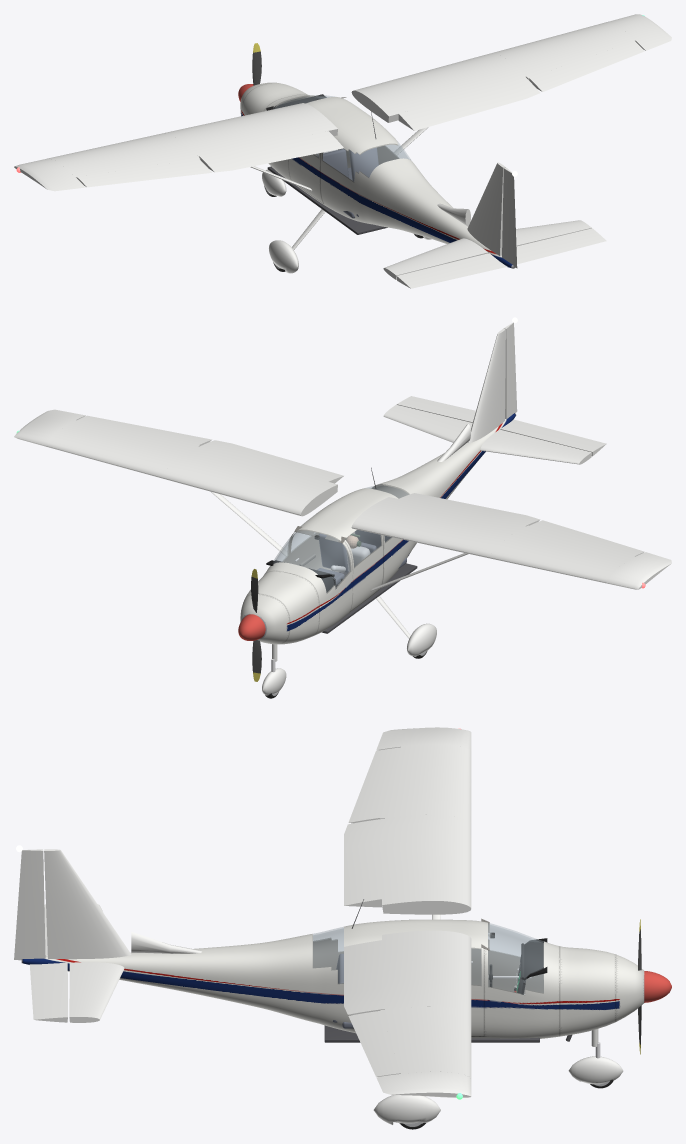
Rendered from aircraft.glb.
The picture shows the model from 3 angles, top to bottom: view 1: azimuth 30°, elevation 25°; view 2: azimuth 150°, elevation 25°; view 3: azimuth 270°, elevation 25°; orthographic projection. The views are drawn at different scales.
Visible parts, largest first — view 1: fuselage, wing_R, wing_L, elevator, flap_R, flap_L, stab, fin, aileron_R, aileron_L, rudder, int_floor (+5 smaller); view 2: fuselage, wing_R, wing_L, stab, fin, elevator, flap_R, flap_L, propeller, aileron_R, rudder, aileron_L (+3 smaller); view 3: fuselage, wing_L, wing_R, fin, flap_L, rudder, flap_R, stab, elevator, aileron_L, aileron_R, pant_R (+5 smaller).
Boxes of the visible parts, x1,y1,x2,y2 form: fuselage: [240, 82, 515, 268]; wing_R: [351, 14, 671, 122]; wing_L: [14, 103, 337, 191]; elevator: [397, 228, 606, 288]; flap_R: [398, 77, 540, 130]; flap_L: [199, 131, 343, 172]; stab: [383, 220, 591, 279]; fin: [467, 162, 505, 255]; aileron_R: [529, 41, 644, 91]; aileron_L: [77, 159, 211, 187]; rudder: [502, 167, 517, 268]; int_floor: [267, 166, 387, 234]; fuselage: [240, 413, 516, 644]; wing_R: [14, 409, 337, 516]; wing_L: [351, 497, 671, 589]; stab: [383, 404, 591, 464]; fin: [467, 328, 505, 442]; elevator: [397, 396, 606, 456]; flap_R: [200, 440, 343, 483]; flap_L: [399, 493, 540, 526]; propeller: [238, 569, 265, 681]; aileron_R: [77, 415, 211, 445]; rudder: [504, 322, 517, 419]; aileron_L: [530, 520, 644, 556]; fuselage: [21, 919, 644, 1038]; wing_L: [376, 727, 471, 914]; wing_R: [376, 930, 471, 1097]; fin: [44, 849, 131, 959]; flap_L: [344, 818, 384, 907]; rudder: [14, 849, 45, 960]; flap_R: [344, 940, 384, 1014]; stab: [69, 904, 124, 1022]; elevator: [29, 904, 67, 1022]; aileron_L: [348, 747, 400, 823]; aileron_R: [348, 1011, 400, 1076]; pant_R: [373, 1095, 440, 1124].
Size of the model in its own units: 11.11 by 3.43 by 8.42.
Materials: 37 (1 with a texture image).
